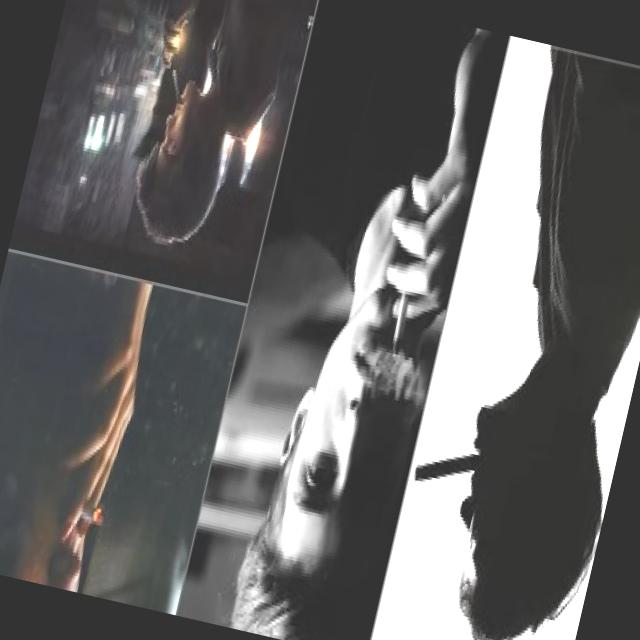cigarette: (412, 420, 486, 499), (384, 286, 416, 355), (73, 494, 112, 530), (162, 66, 188, 110)
